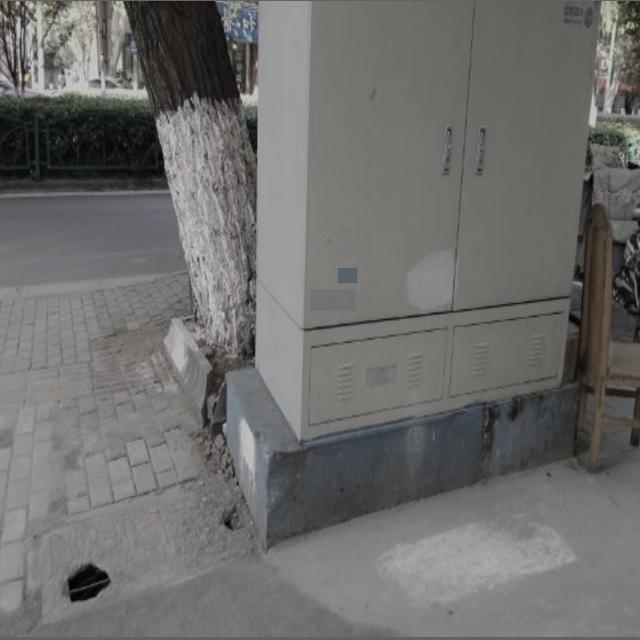broke: (41, 465, 248, 604)
